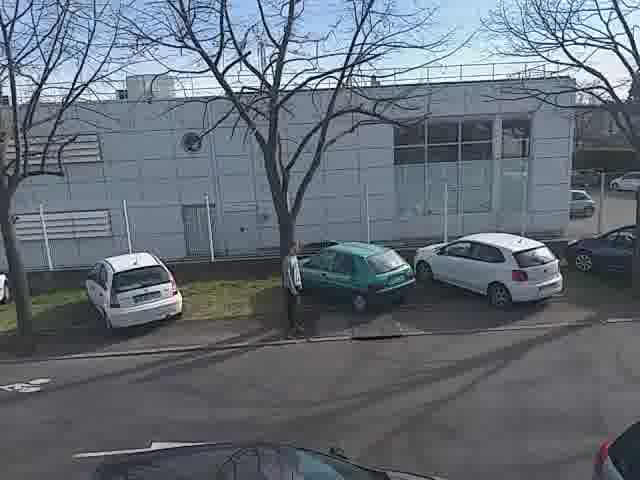persona: (275, 236, 310, 341)
